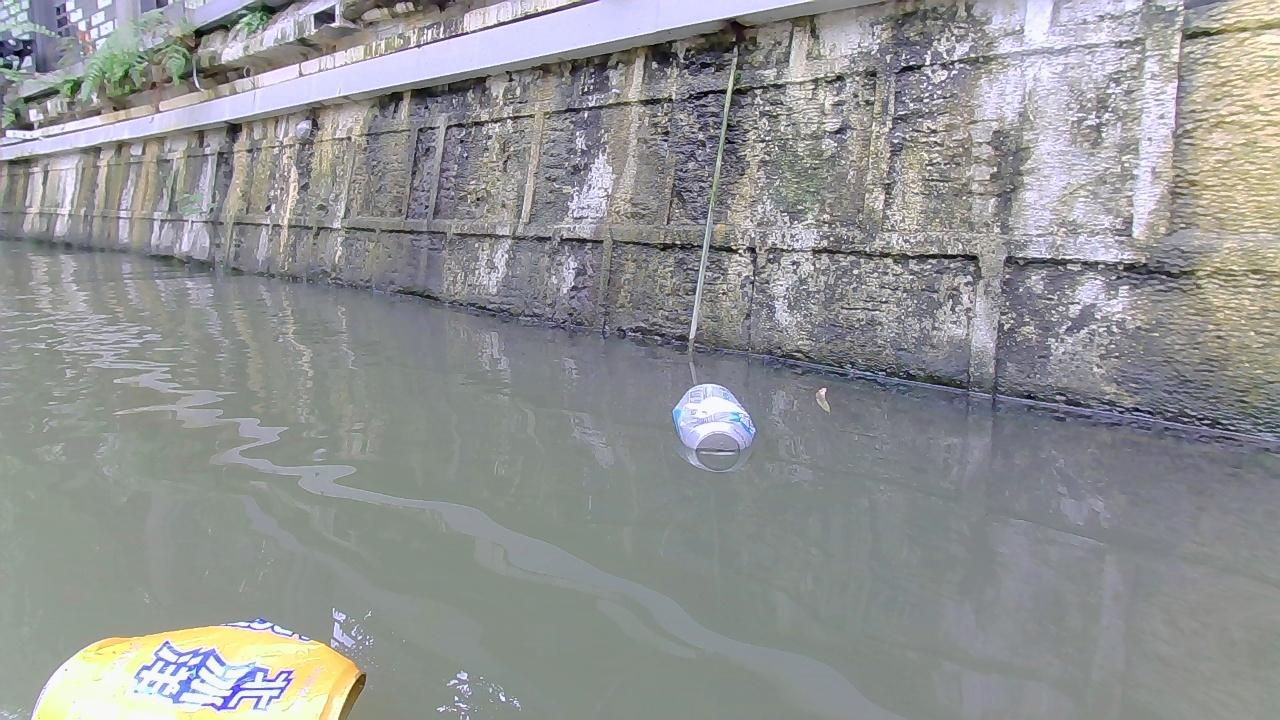Metal: (29, 615, 368, 720), (669, 382, 757, 452)
